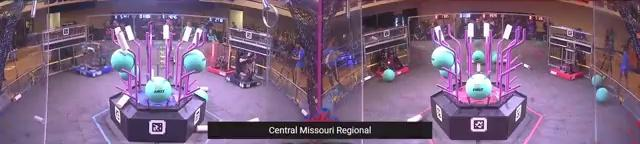reef: (108, 24, 208, 142), (431, 22, 527, 141)
robot: (226, 50, 262, 90), (75, 40, 112, 76), (550, 45, 582, 80), (372, 49, 409, 79), (209, 44, 237, 76)
